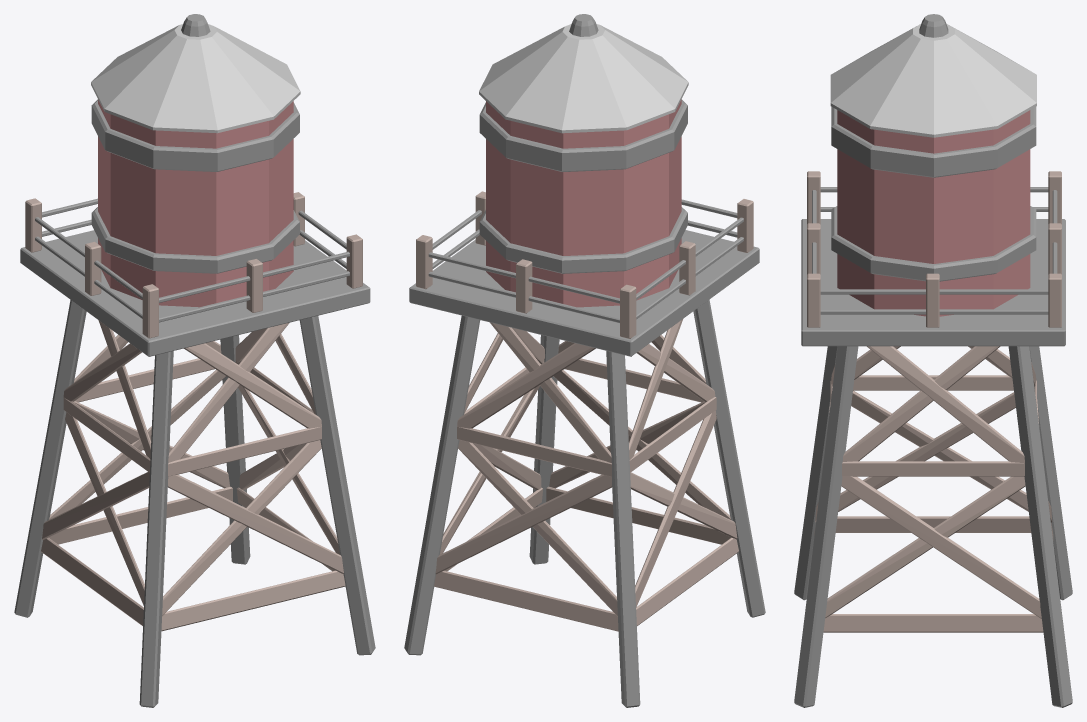
Rendered from fp_silo_l3.glb.
3 views of the same model, side by side, from view 1: azimuth 30°, elevation 25°; view 2: azimuth 150°, elevation 25°; view 3: azimuth 270°, elevation 25° (orthographic). The views are drawn at different scales.
Bounding box in the file's own units: 0.9 × 2.26 × 0.8993.
